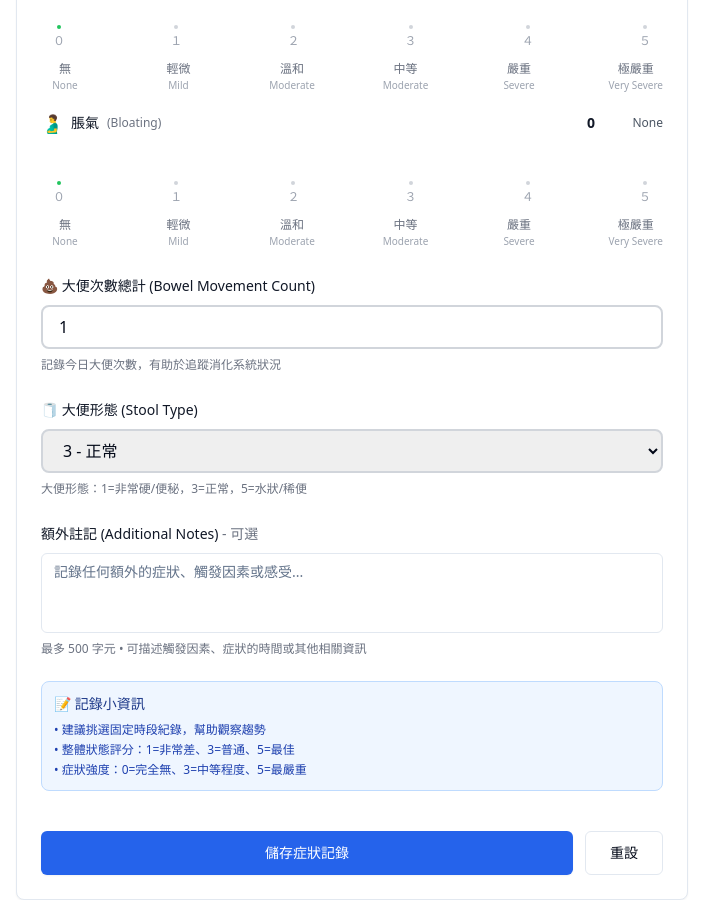
Test: QuickSymptomEntry › Form Submission › should show error message on submission failure
The width and height of the screenshot is (705, 900).
(page scrolled)
Click the button "儲存症狀記錄". click: coordinates (307, 853)
box: [41, 831, 573, 875]
(page scrolled)
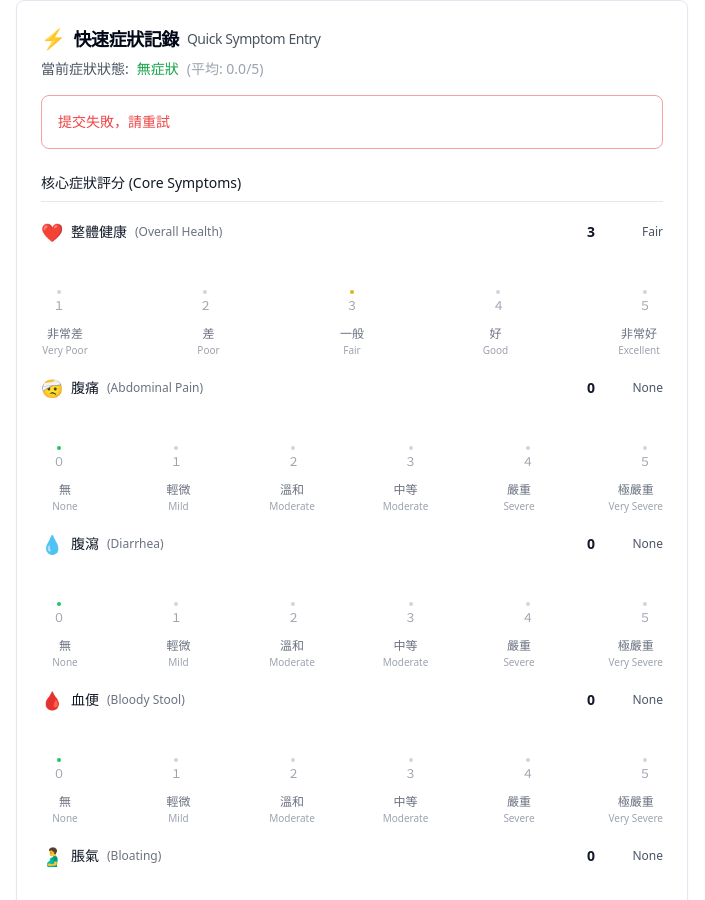
Expected: the text "提交失敗，請重試" is shown, [58, 112, 170, 131]
